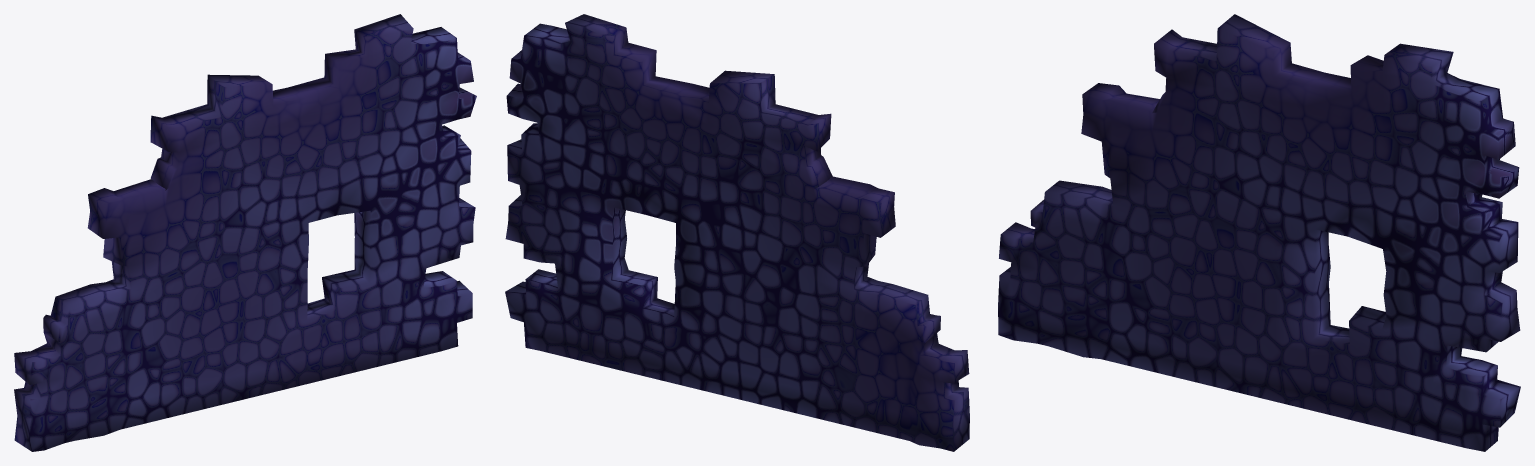
File: SM_Ruins_02.fbx
The picture shows the model from 3 angles, left to right: view 1: azimuth 30°, elevation 25°; view 2: azimuth 150°, elevation 25°; view 3: azimuth 330°, elevation 25°; orthographic projection. The views are drawn at different scales.
Visible parts, largest first — view 1: plane.002; view 2: plane.002; view 3: plane.002.
Boxes of the visible parts, bbox=[...] form: plane.002: bbox=[14, 14, 476, 451]; plane.002: bbox=[505, 14, 969, 451]; plane.002: bbox=[998, 14, 1520, 451].
Size of the model in its own units: 331 by 236 by 22.44.
Materials: 1 (1 with a texture image).
